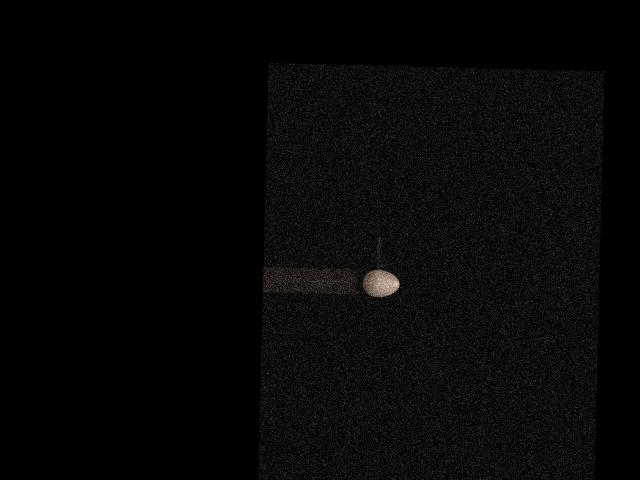egg: (361, 270, 399, 297)
